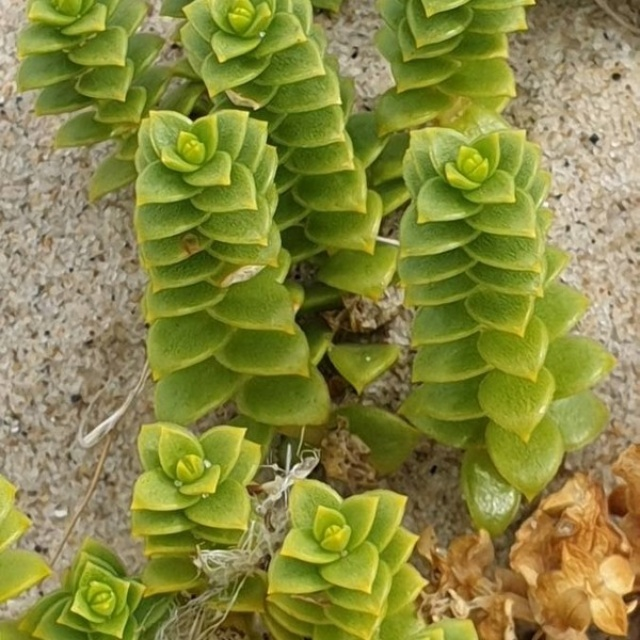obstacle: (84, 10, 609, 491), (98, 65, 362, 403), (371, 86, 588, 480), (26, 418, 415, 614)
